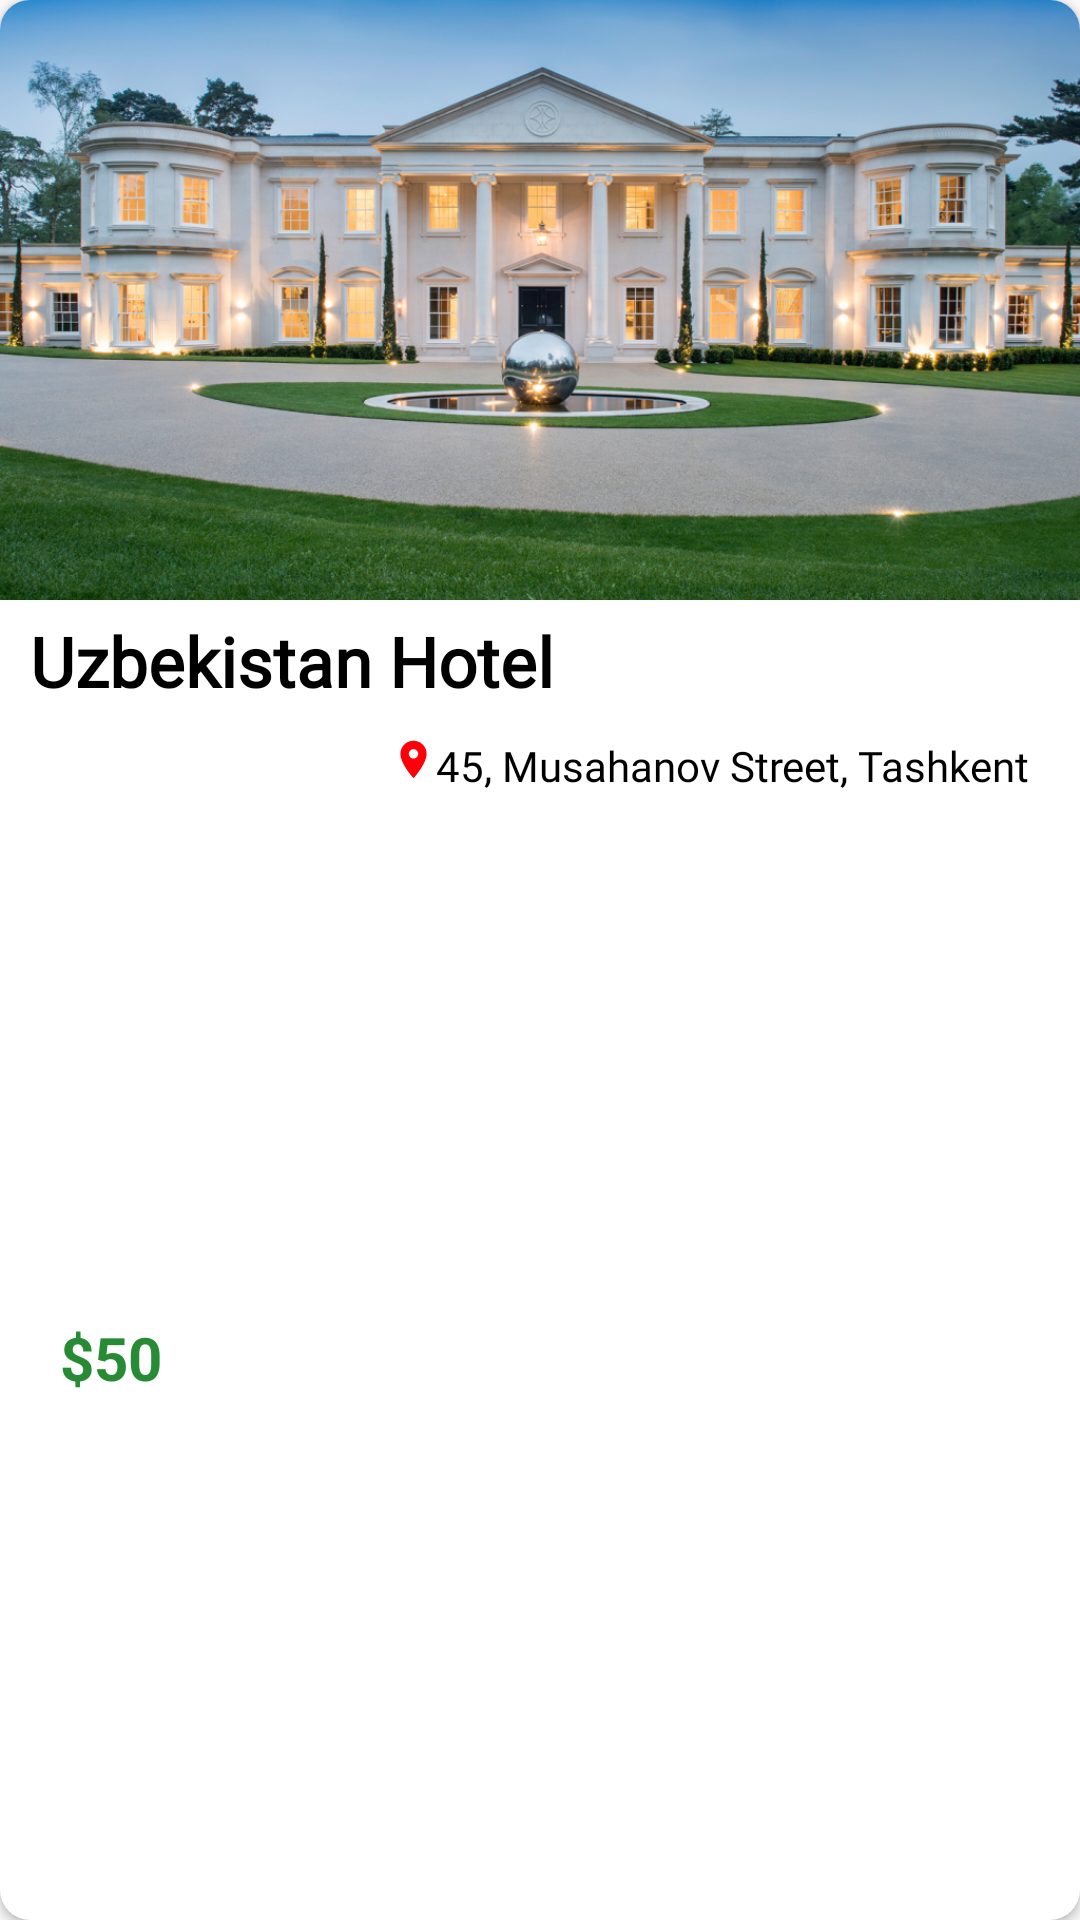

Icons on this 1080px x 1920px Android screen, each with its box as (left=x1, top=y1, right=x2, bottom=y2):
place: (left=400, top=740, right=427, bottom=778)
